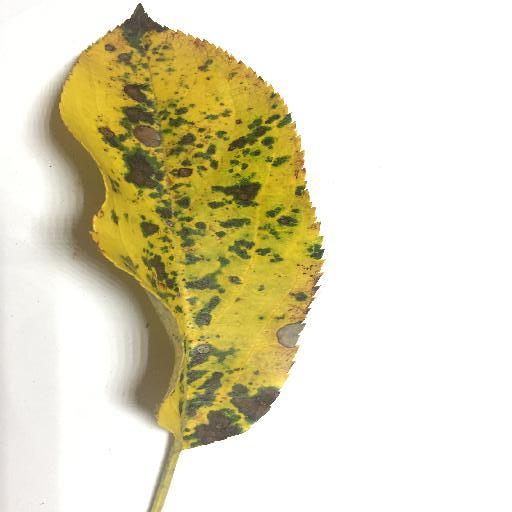Brown_Spot: (20, 7, 404, 450)
